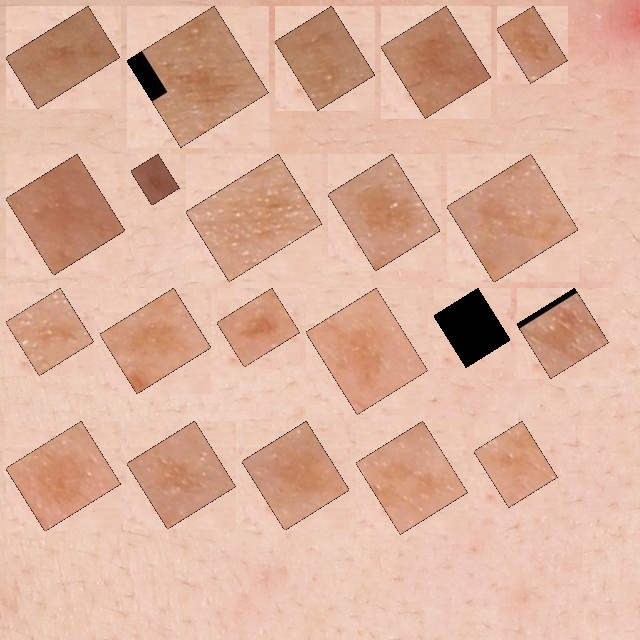melasma: (138, 17, 257, 136), (197, 165, 311, 270), (458, 165, 567, 271), (317, 299, 417, 403), (17, 165, 114, 264), (339, 165, 429, 260), (17, 432, 110, 520), (367, 432, 456, 523), (392, 17, 480, 107), (138, 432, 225, 518), (253, 432, 338, 519), (111, 299, 200, 382), (17, 17, 109, 97), (286, 17, 364, 99), (528, 299, 598, 367), (17, 299, 83, 364), (485, 432, 546, 496), (228, 299, 289, 356), (445, 299, 499, 356), (508, 17, 556, 72), (142, 165, 168, 194)
